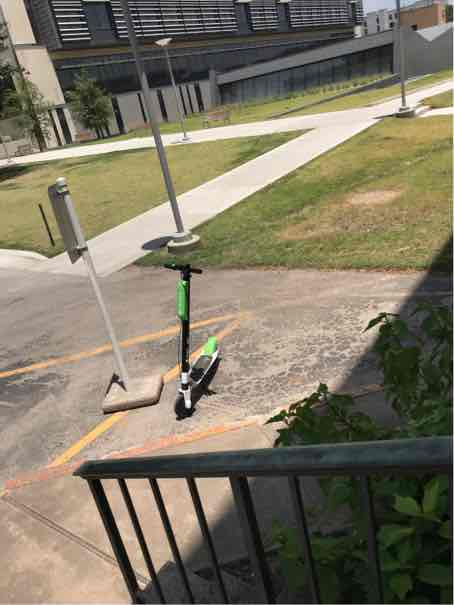scooter: (159, 240, 239, 418)
